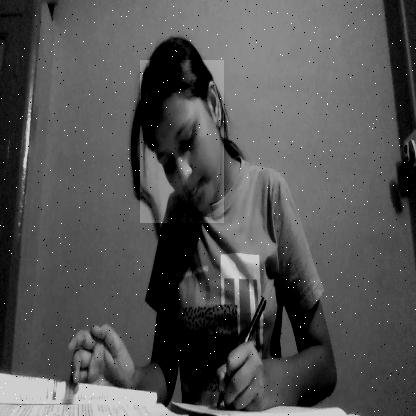Distracted: (140, 60, 224, 223)
